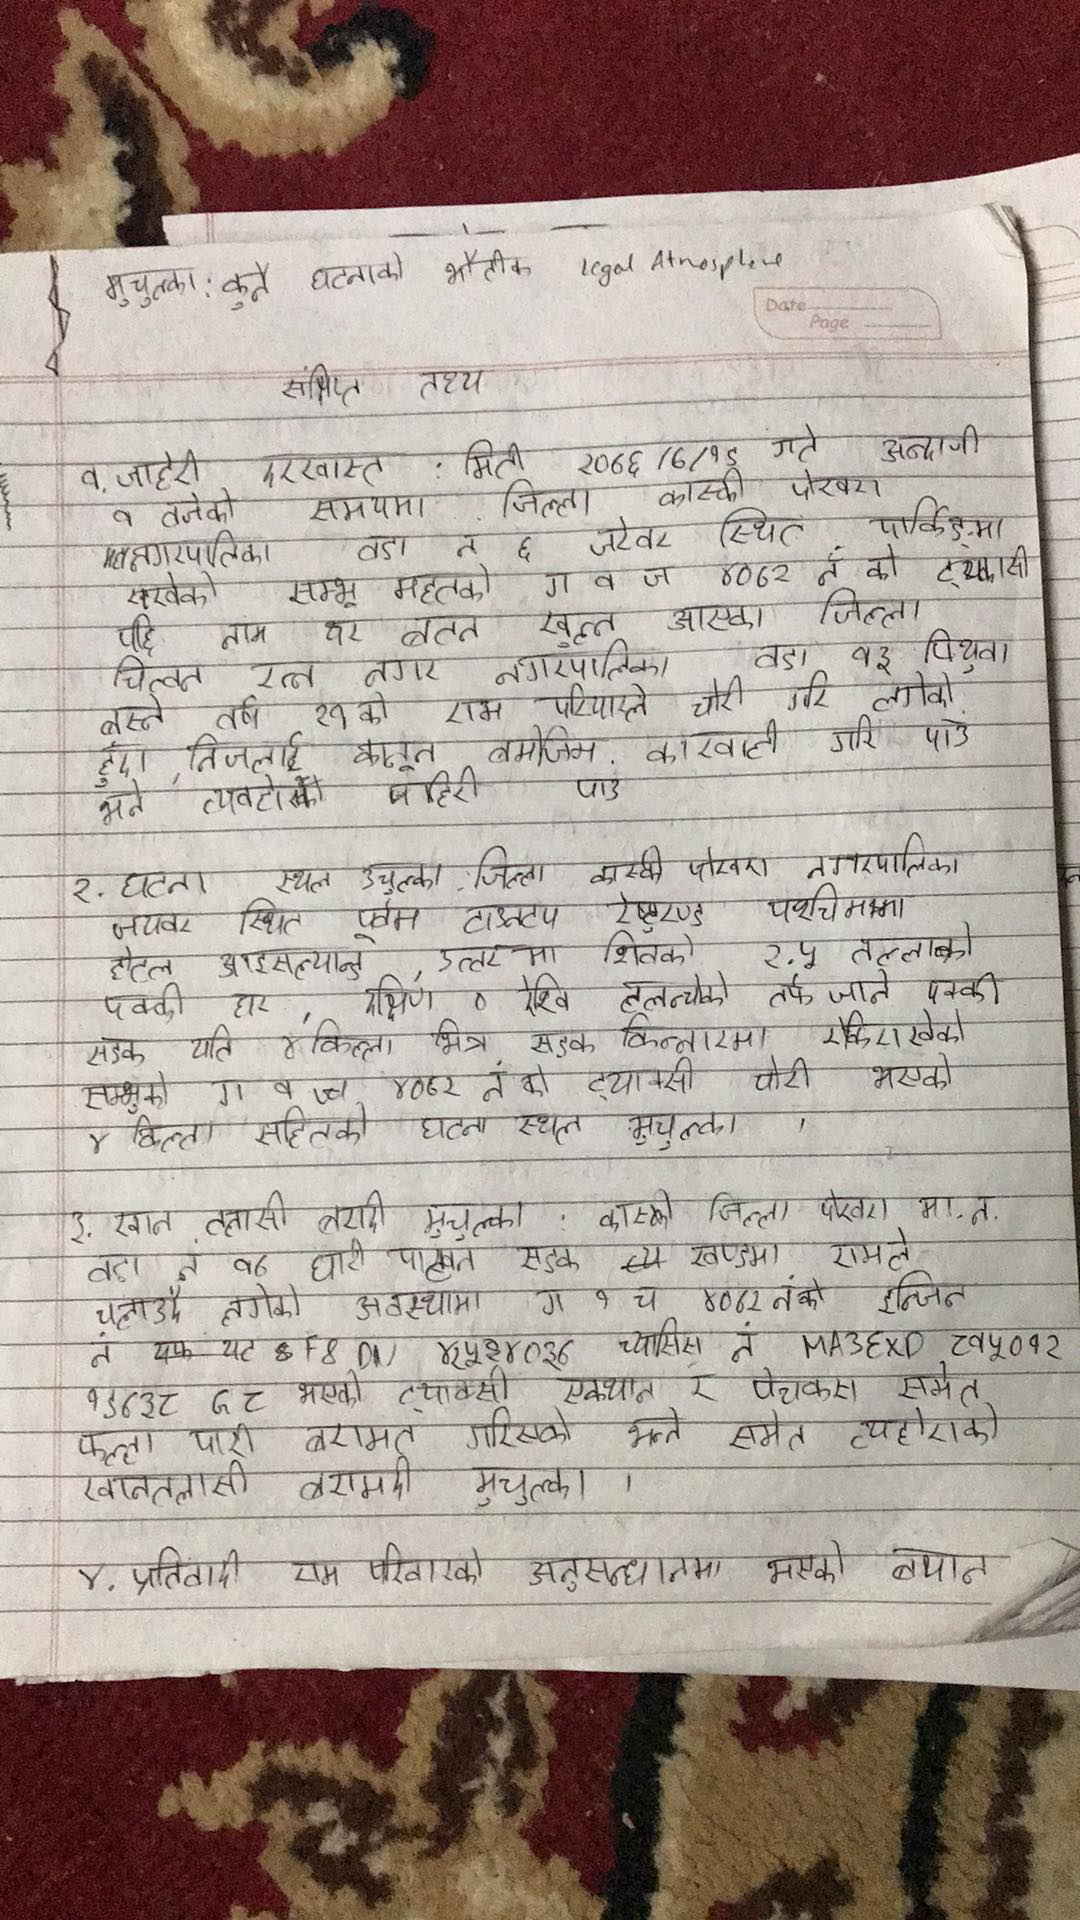text: (525, 1545, 725, 1597), (485, 640, 671, 691), (847, 1399, 1007, 1457), (803, 828, 968, 884), (99, 529, 280, 572), (869, 496, 1005, 551), (617, 1011, 771, 1058), (80, 1464, 255, 1505), (760, 881, 916, 924), (574, 436, 748, 475), (253, 1097, 373, 1153), (471, 1455, 593, 1509), (847, 920, 978, 971), (211, 944, 365, 985), (196, 769, 328, 816), (819, 1007, 971, 1048), (293, 1455, 415, 1505), (640, 723, 789, 764), (365, 1540, 488, 1586), (465, 1404, 572, 1457), (615, 967, 729, 1015), (624, 1105, 740, 1153), (429, 1336, 583, 1371), (179, 732, 313, 773), (818, 583, 928, 632), (920, 618, 1015, 675), (127, 1545, 240, 1593), (585, 1058, 700, 1104), (357, 1284, 487, 1325), (880, 419, 989, 467), (253, 451, 392, 488), (385, 564, 496, 611), (543, 683, 663, 725), (876, 1269, 969, 1321), (392, 1367, 512, 1408), (203, 1184, 291, 1240), (378, 765, 484, 811), (749, 1367, 872, 1407), (496, 475, 600, 521), (887, 1542, 992, 1588), (947, 1328, 1068, 1367), (295, 1418, 421, 1456), (868, 1048, 960, 1100), (761, 1539, 851, 1592), (612, 1313, 705, 1364), (452, 895, 563, 938), (427, 940, 563, 975), (277, 361, 369, 411), (712, 505, 808, 553), (108, 651, 204, 699), (936, 543, 1035, 589), (601, 889, 704, 932), (309, 1015, 396, 1067), (305, 489, 429, 525), (423, 1197, 527, 1240), (99, 265, 199, 309), (218, 1280, 305, 1331), (355, 972, 436, 1025), (80, 1071, 169, 1120), (727, 1407, 815, 1456), (444, 245, 535, 291), (789, 465, 887, 508), (481, 731, 608, 764), (124, 568, 225, 609), (393, 1240, 480, 1287), (599, 928, 699, 969), (127, 1112, 218, 1156), (585, 516, 679, 559), (669, 596, 771, 636), (469, 844, 549, 895), (309, 251, 407, 291), (533, 603, 620, 649), (99, 982, 187, 1027), (352, 855, 444, 897), (596, 1187, 675, 1236), (112, 451, 200, 495), (869, 673, 957, 716), (94, 691, 174, 738), (547, 1371, 661, 1404), (117, 866, 215, 905), (348, 733, 436, 775), (684, 841, 773, 884), (920, 964, 1004, 1009), (305, 1233, 372, 1288), (84, 1292, 181, 1331), (307, 692, 393, 735), (828, 1228, 911, 1271), (280, 571, 368, 612), (316, 1189, 388, 1240), (655, 469, 748, 508), (80, 1383, 179, 1419), (588, 845, 669, 889), (703, 556, 791, 596), (233, 895, 309, 942), (73, 1425, 157, 1466), (688, 1240, 785, 1275), (291, 1367, 364, 1414), (109, 907, 199, 944), (102, 940, 175, 985), (703, 1192, 793, 1229), (160, 489, 237, 531), (513, 973, 582, 1021), (823, 967, 895, 1011), (687, 1280, 769, 1320), (397, 611, 481, 649), (429, 1009, 488, 1062), (889, 1371, 984, 1404), (411, 365, 493, 404), (815, 1188, 891, 1229), (440, 688, 512, 732), (913, 1191, 996, 1228), (351, 895, 425, 936), (513, 1106, 587, 1147), (185, 1422, 258, 1462), (680, 675, 749, 719), (269, 1069, 352, 1105), (460, 435, 527, 479), (622, 1403, 680, 1453), (359, 655, 444, 688), (415, 1112, 493, 1147), (92, 740, 148, 789), (757, 932, 819, 976), (746, 1058, 812, 1098), (823, 717, 884, 761), (524, 1029, 597, 1064), (247, 658, 326, 691), (95, 781, 149, 828), (767, 421, 824, 465), (386, 1071, 458, 1106), (269, 864, 339, 899), (219, 612, 276, 655), (80, 1249, 142, 1288), (223, 264, 273, 313), (773, 1275, 829, 1317), (185, 1027, 239, 1071), (111, 609, 160, 657), (923, 713, 973, 760), (512, 1244, 582, 1276), (783, 673, 837, 715), (352, 529, 411, 567), (84, 1036, 146, 1072), (287, 1555, 345, 1592), (208, 1385, 265, 1422), (748, 640, 811, 673), (112, 1207, 175, 1240), (208, 696, 266, 732), (535, 555, 576, 603), (513, 1060, 556, 1104), (847, 641, 895, 679), (765, 975, 814, 1013), (572, 771, 626, 804), (860, 541, 901, 584), (76, 1329, 123, 1367), (228, 1247, 277, 1283), (225, 989, 273, 1023), (808, 549, 848, 588), (448, 525, 489, 563), (477, 1065, 513, 1109), (633, 556, 675, 592), (71, 1556, 105, 1596), (61, 1203, 88, 1251), (212, 1079, 253, 1112), (533, 1283, 567, 1321), (628, 1280, 665, 1315), (65, 873, 98, 911), (320, 616, 364, 644), (727, 1329, 760, 1365), (280, 1023, 305, 1069), (688, 1371, 716, 1412), (587, 1280, 617, 1316), (587, 564, 617, 599), (76, 458, 105, 493), (175, 1249, 204, 1284), (513, 533, 541, 564), (83, 1129, 115, 1156)
